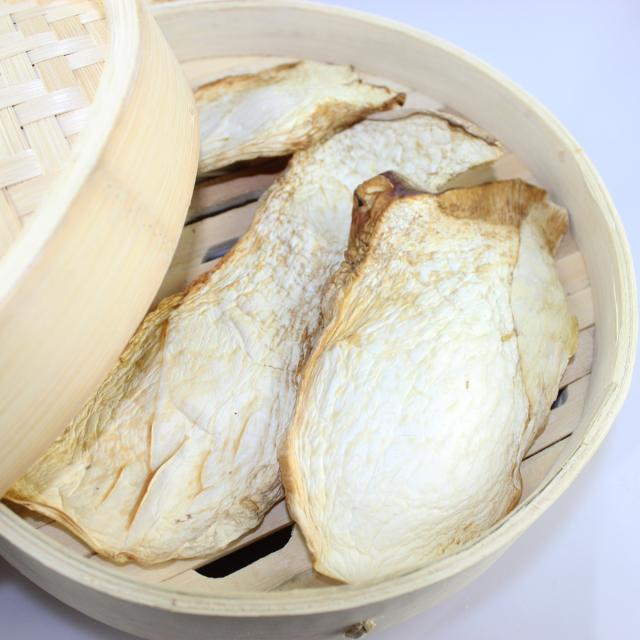Pleurotus eryngii: (282, 176, 557, 570)
